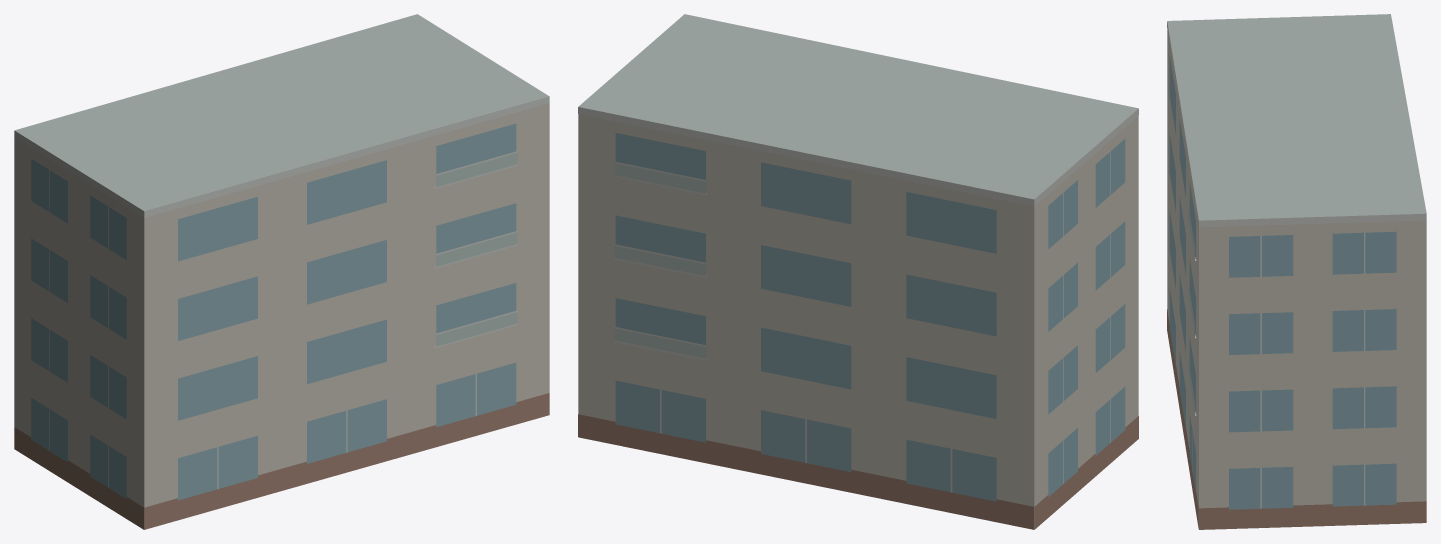
The model's file is survey-upis-32956758.glb.
3 views of the same model, side by side, from view 1: azimuth 30°, elevation 25°; view 2: azimuth 150°, elevation 25°; view 3: azimuth 270°, elevation 25° (orthographic). The views are drawn at different scales.
Visible parts, largest first — view 1: survey-upis-32956758.tmp; view 2: survey-upis-32956758.tmp; view 3: survey-upis-32956758.tmp.
Part boxes in pixels (x1,y1,x2,y2): survey-upis-32956758.tmp: [14, 14, 549, 529]; survey-upis-32956758.tmp: [578, 14, 1138, 529]; survey-upis-32956758.tmp: [1167, 14, 1426, 529].
Bounding box in the file's own units: 16.35 × 11.4 × 8.68.
